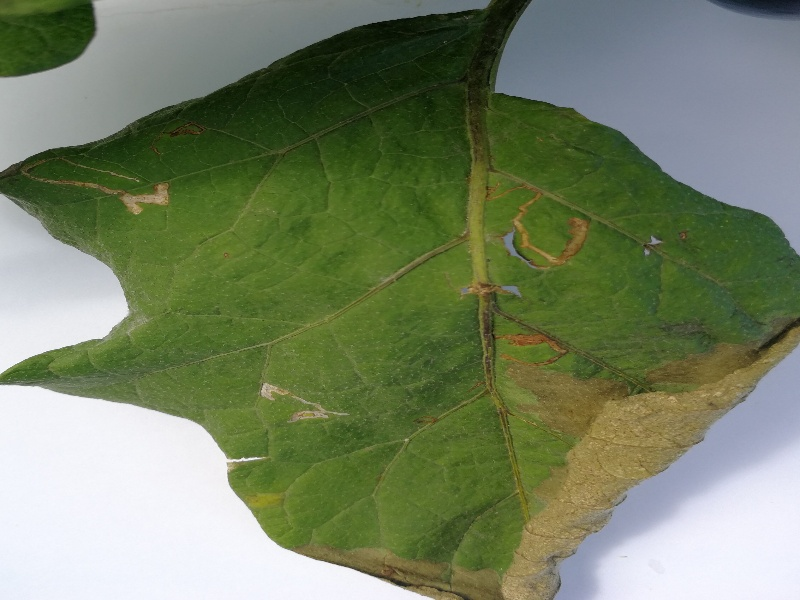leafminer: (10, 96, 212, 211), (477, 167, 585, 277), (481, 316, 573, 383), (248, 377, 355, 430)
